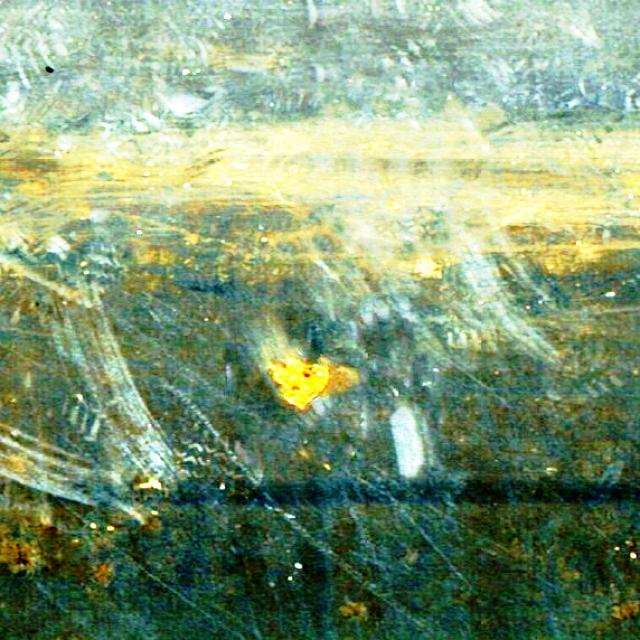Corrosion: (268, 356, 330, 410), (364, 142, 390, 148), (390, 200, 400, 210)
